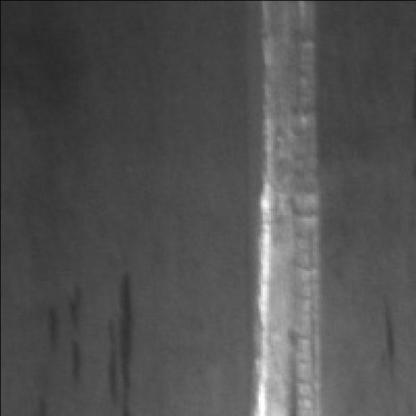inclusion: (106, 266, 142, 400), (48, 276, 87, 380), (376, 300, 404, 370)
scratches: (260, 0, 331, 412)
